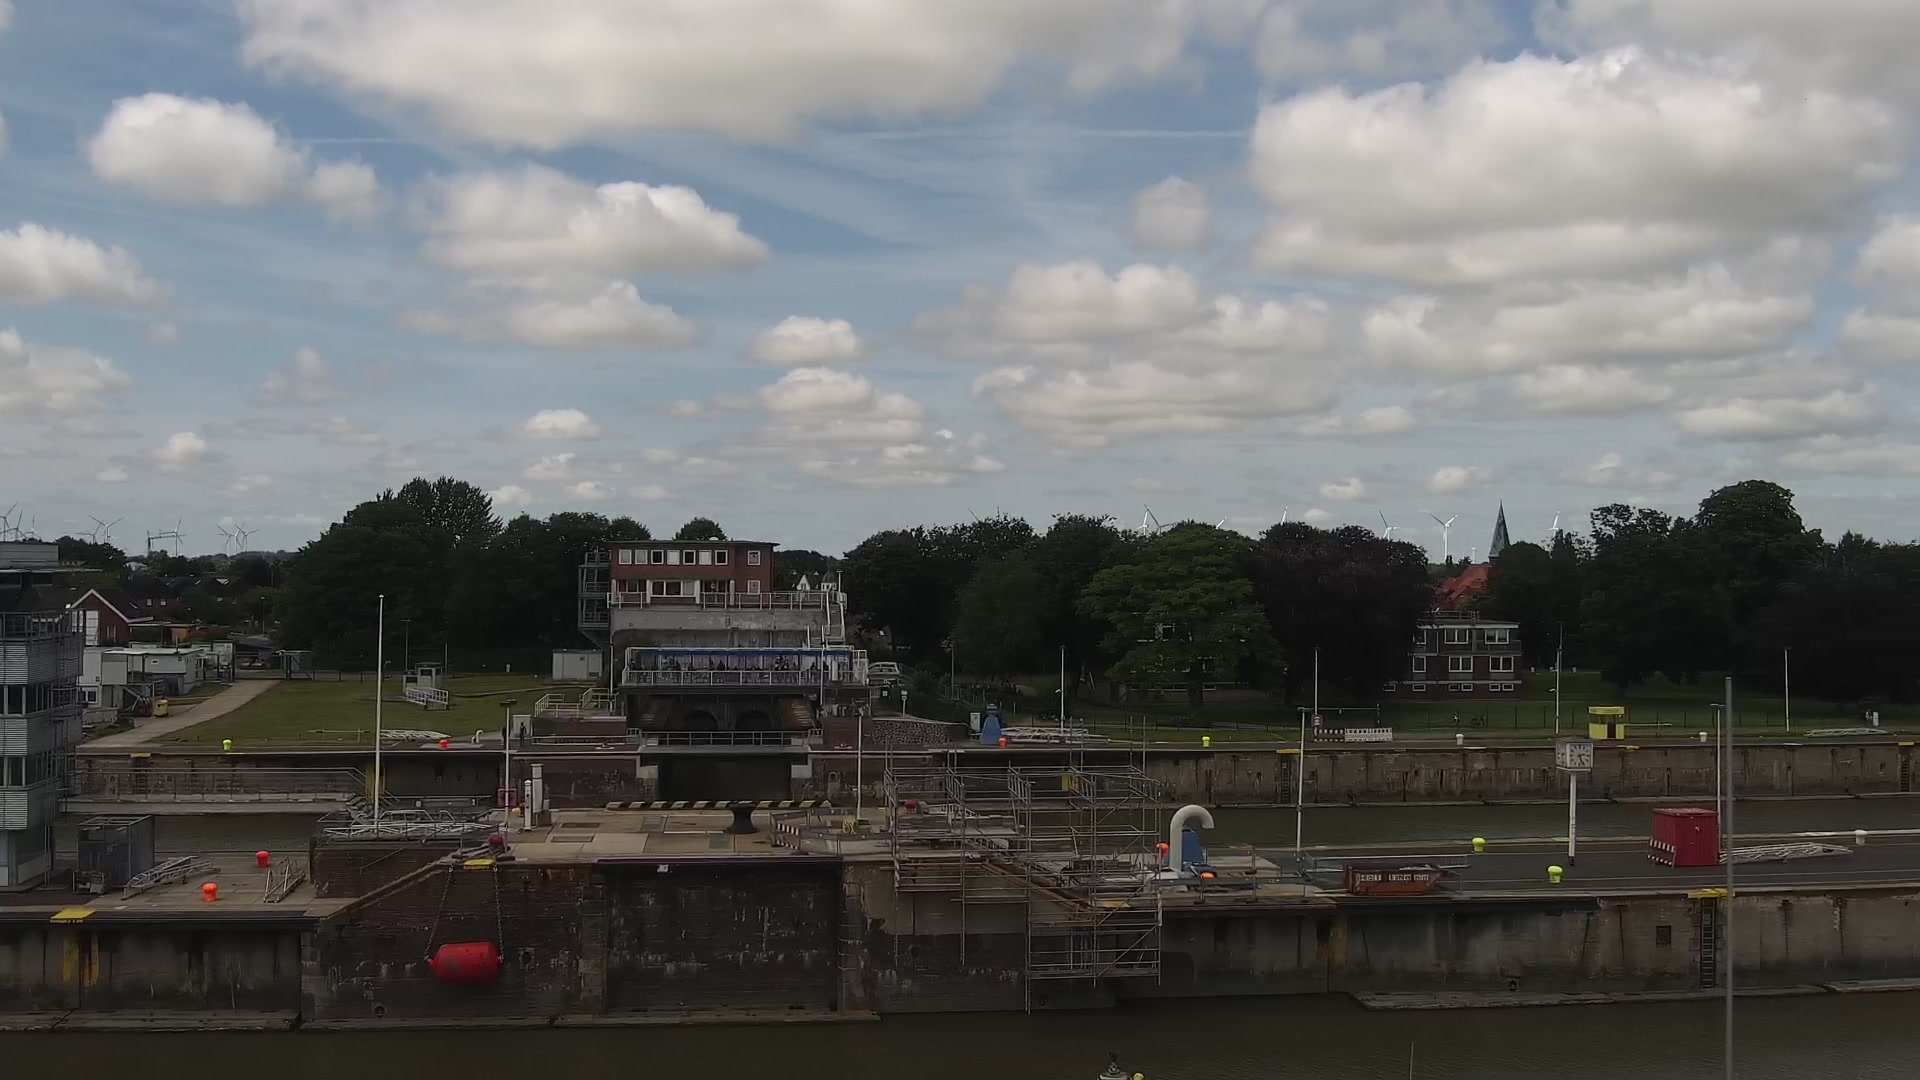human: (501, 724, 510, 748), (716, 658, 725, 682), (791, 660, 801, 683), (519, 721, 528, 747), (672, 659, 681, 683), (810, 660, 818, 682), (686, 660, 694, 682), (661, 660, 669, 681)
land: (868, 662, 901, 683)
